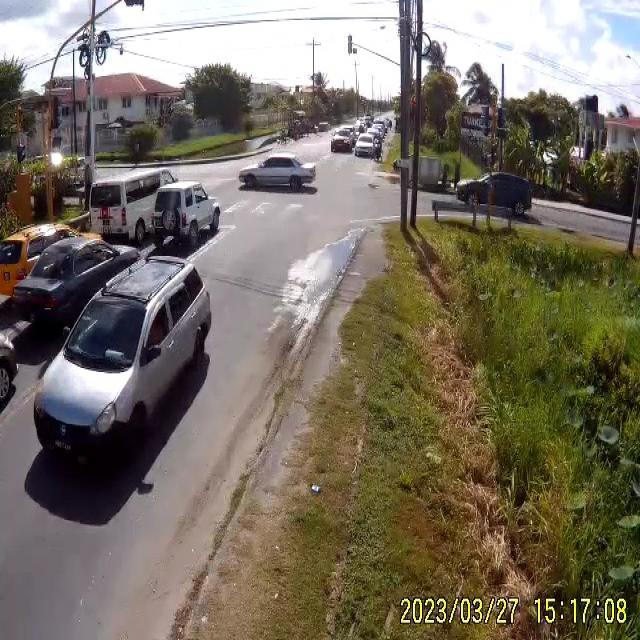car: (35, 251, 214, 480), (4, 239, 140, 336), (88, 172, 172, 239), (153, 183, 224, 254), (457, 172, 534, 214), (240, 156, 316, 192), (355, 134, 379, 158), (331, 132, 354, 155)
